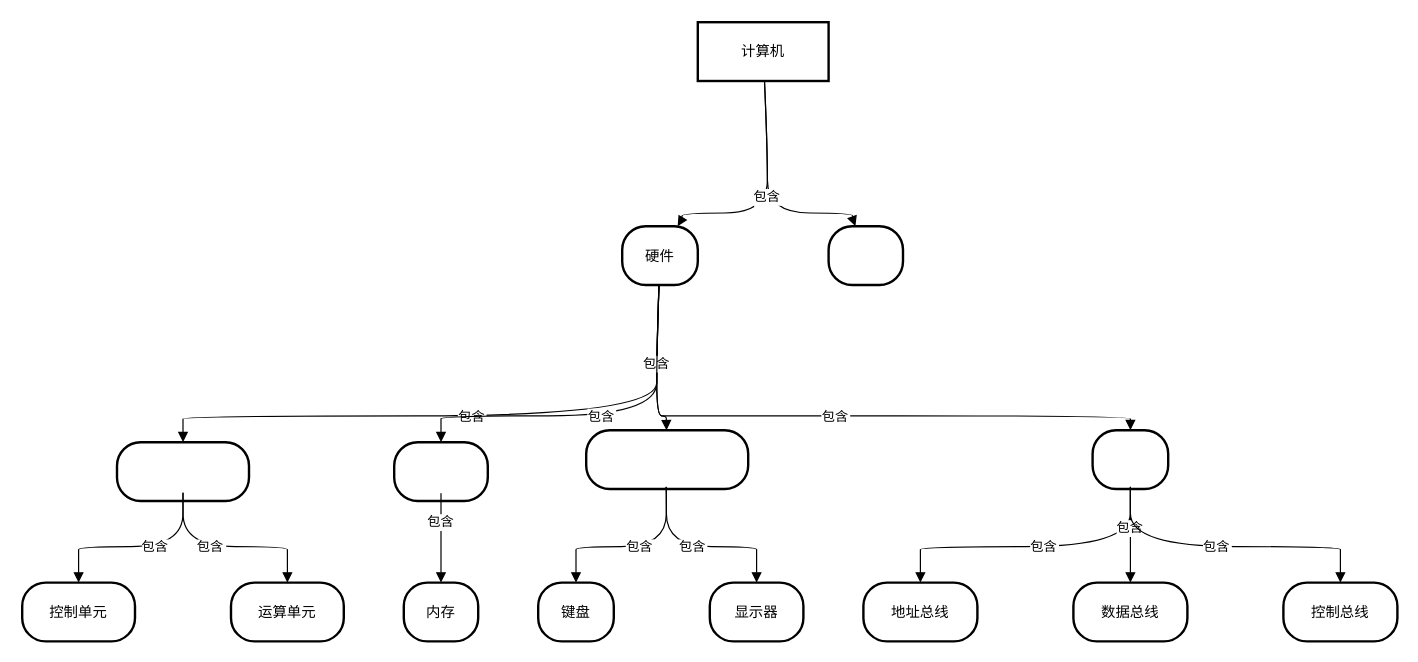
Image size: 1418x662. Some labels were removed from this diagram. Here are the shapes that lost their labels. From the top down, the centre of each, then its label:
At (x=865, y=255): "软件".
At (x=182, y=471): "中央处理器".
At (x=440, y=471): "存储器".
At (x=666, y=459): "输入/输出设备".
At (x=1130, y=459): "总线".
